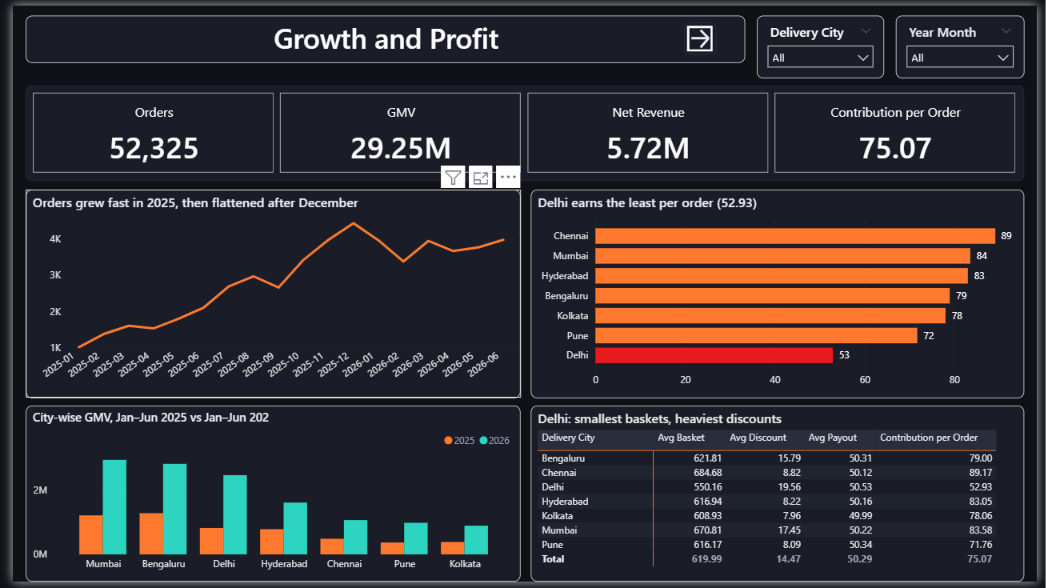

The dashboard page shown, as its layout file describes it:
{"tool":"powerbi","page":{"name":"Growth & Profit","canvas":[1280,720],"ordinal":0},"visuals":[{"type":"textbox","title":"Growth and Profit","box":[16.2,12.2,899.4,59.4],"z":0},{"type":"slicer","fields":{"Values":["dw fact_orders.delivery_city"]},"box":[930.5,12.2,159.4,78.3],"z":1000},{"type":"slicer","fields":{"Values":["dw dim_date.year_month"]},"box":[1103.4,12.2,160.7,78.3],"z":2000},{"type":"cardVisual","fields":{"Data":["measures_table.Orders","measures_table.GMV","measures_table.Net Revenue","measures_table.Contribution per Order"]},"box":[16.2,99.9,1247.9,118.8],"z":3000},{"type":"lineChart","title":"Orders grew fast in 2025, then flattened after December","fields":{"Category":["dw dim_date.year_month"],"Y":["measures_table.Orders"]},"box":[16.2,229.6,618.5,260.6],"z":4000},{"type":"clusteredBarChart","title":"Delhi earns the least per order (52.93)","fields":{"Category":["dw fact_orders.delivery_city"],"Y":["measures_table.Contribution per Order"]},"box":[646.9,229.6,617.2,260.6],"z":5000},{"type":"clusteredColumnChart","title":"City-wise GMV, Jan–Jun 2025 vs Jan–Jun 202","fields":{"Category":["dw fact_orders.delivery_city"],"Y":["measures_table.GMV"],"Series":["dw dim_date.year_number"]},"box":[16.2,499.7,618.5,220.1],"z":6000},{"type":"pivotTable","title":"Delhi: smallest baskets, heaviest discounts","fields":{"Rows":["dw fact_orders.delivery_city"],"Values":["measures_table.Avg Basket","measures_table.Avg Discount","measures_table.Avg Payout","measures_table.Contribution per Order"]},"box":[647,500,617,220],"z":7000},{"type":"actionButton","box":[839,21.6,40.5,40.5],"z":8000}]}

Visuals, with their boxes in screenshot pixels (x1, y1, x2, y2), scaled from the page's 1280x720 canvas onto the 1046x588 screenshot:
"Growth and Profit" textbox: (13, 10, 748, 58)
slicer - dw fact_orders.delivery_city: (760, 10, 891, 74)
slicer - dw dim_date.year_month: (902, 10, 1033, 74)
cardVisual - measures_table.Orders x measures_table.GMV: (13, 82, 1033, 179)
"Orders grew fast in 2025, then flattened after December" lineChart: (13, 188, 519, 400)
"Delhi earns the least per order (52.93)" clusteredBarChart: (529, 188, 1033, 400)
"City-wise GMV, Jan–Jun 2025 vs Jan–Jun 202" clusteredColumnChart: (13, 408, 519, 587)
"Delhi: smallest baskets, heaviest discounts" pivotTable: (529, 408, 1033, 587)
actionButton: (686, 18, 719, 51)
